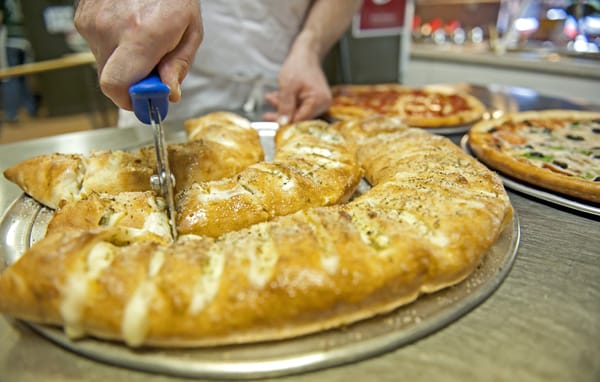sandwich: (3, 102, 513, 346), (468, 108, 600, 201), (330, 83, 487, 128), (403, 88, 483, 127)
